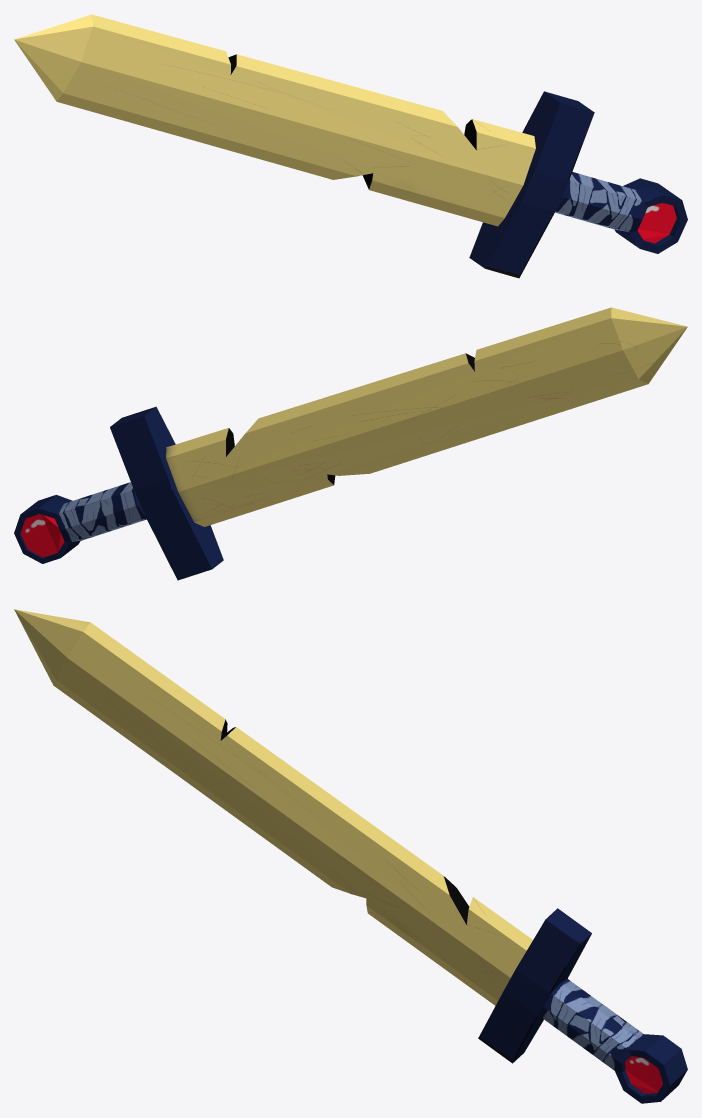
Rendered from asset.gltf.
3 views of the same model, one above another, from view 1: azimuth 30°, elevation 25°; view 2: azimuth 150°, elevation 25°; view 3: azimuth 330°, elevation 25° (orthographic). The views are drawn at different scales.
Visible parts, largest first — view 1: Circle; view 2: Circle; view 3: Circle.
Part boxes in pixels (left/top/right/bottom): Circle: left=14, top=14, right=687, bottom=278; Circle: left=14, top=307, right=687, bottom=580; Circle: left=14, top=609, right=687, bottom=1103.
Bounding box in the file's own units: 1.12 × 0.6066 × 0.1295.
Materials: 2 (2 with a texture image).
